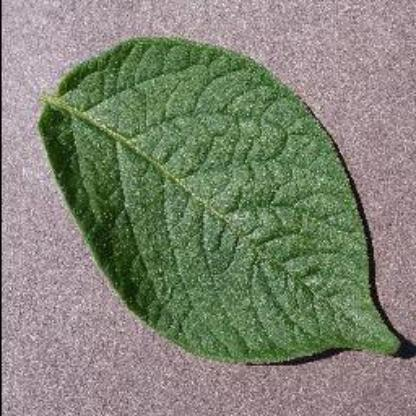Healthy-plant: (29, 36, 410, 374)
